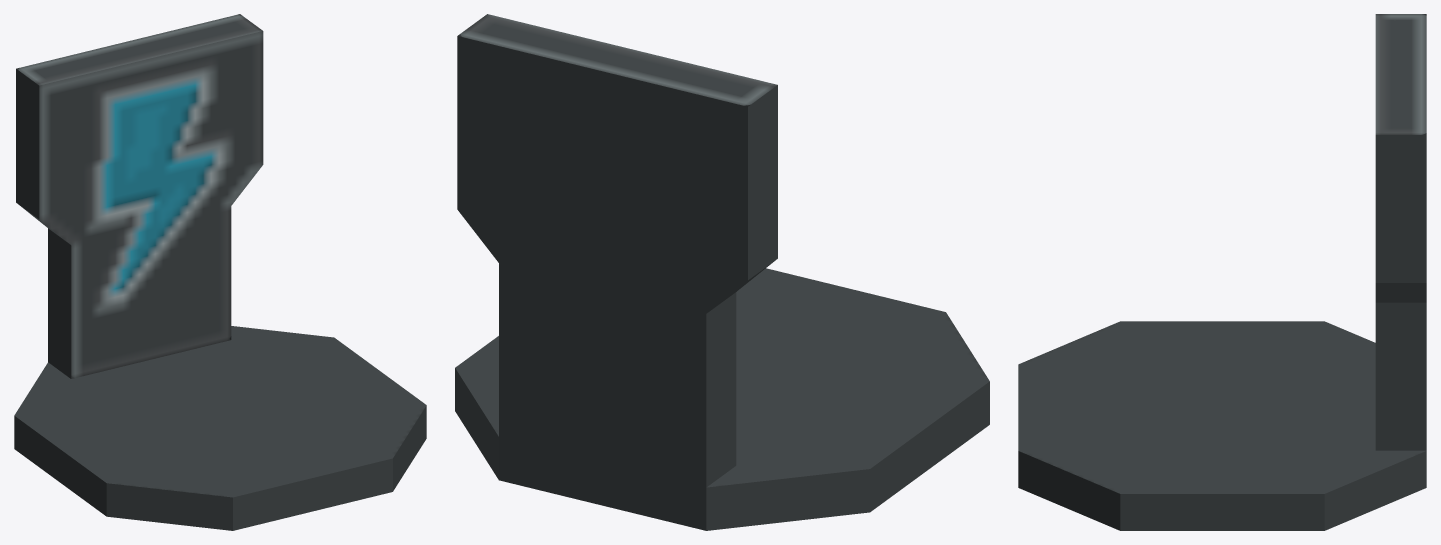
Rendered from chargepad.fbx.
The picture shows the model from 3 angles, left to right: view 1: azimuth 30°, elevation 25°; view 2: azimuth 150°, elevation 25°; view 3: azimuth 270°, elevation 25°; orthographic projection. The views are drawn at different scales.
Visible parts, largest first — view 1: Cube; view 2: Cube; view 3: Cube.
Boxes of the visible parts, x1,y1,x2,y2 form: Cube: [14, 14, 426, 530]; Cube: [455, 14, 989, 530]; Cube: [1018, 14, 1426, 530].
Size of the model in its own units: 100 by 100 by 100.
1 material, 1 textured.
